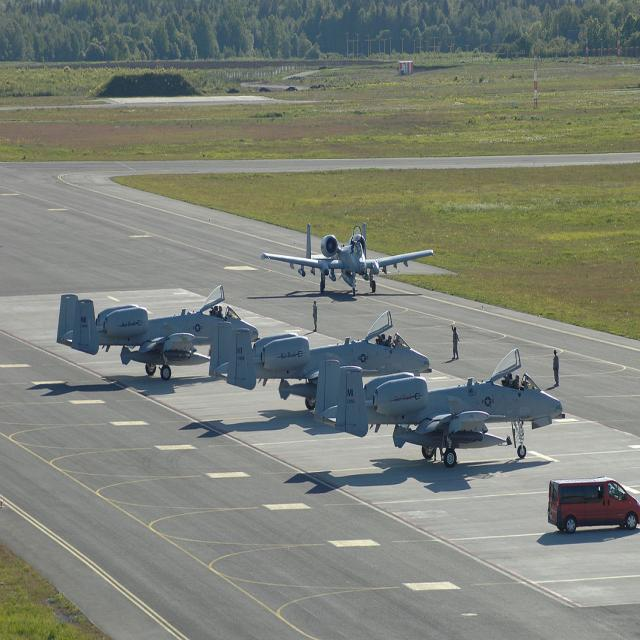MIL_Plane: (313, 348, 566, 468), (209, 310, 433, 410), (56, 284, 262, 379), (260, 222, 434, 297)
